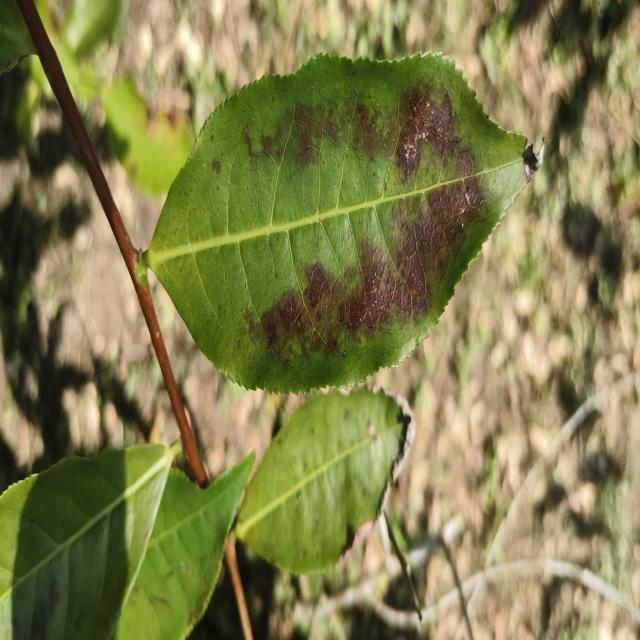Leaf: (144, 54, 537, 392), (0, 442, 180, 640), (236, 388, 414, 573), (112, 454, 253, 640), (102, 79, 193, 194), (66, 0, 121, 56), (0, 0, 37, 75)
